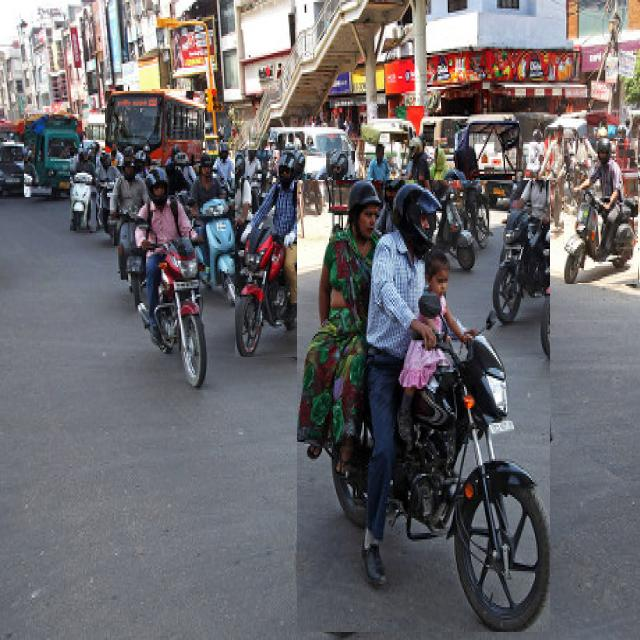bus: (105, 91, 205, 166)
car: (270, 129, 361, 205), (0, 143, 24, 193)
motorcycle: (298, 181, 550, 632), (135, 168, 206, 387), (236, 151, 307, 357), (291, 152, 355, 323), (565, 139, 638, 284), (190, 154, 236, 296), (110, 152, 149, 304), (70, 148, 96, 231)
truck: (24, 114, 82, 197)
